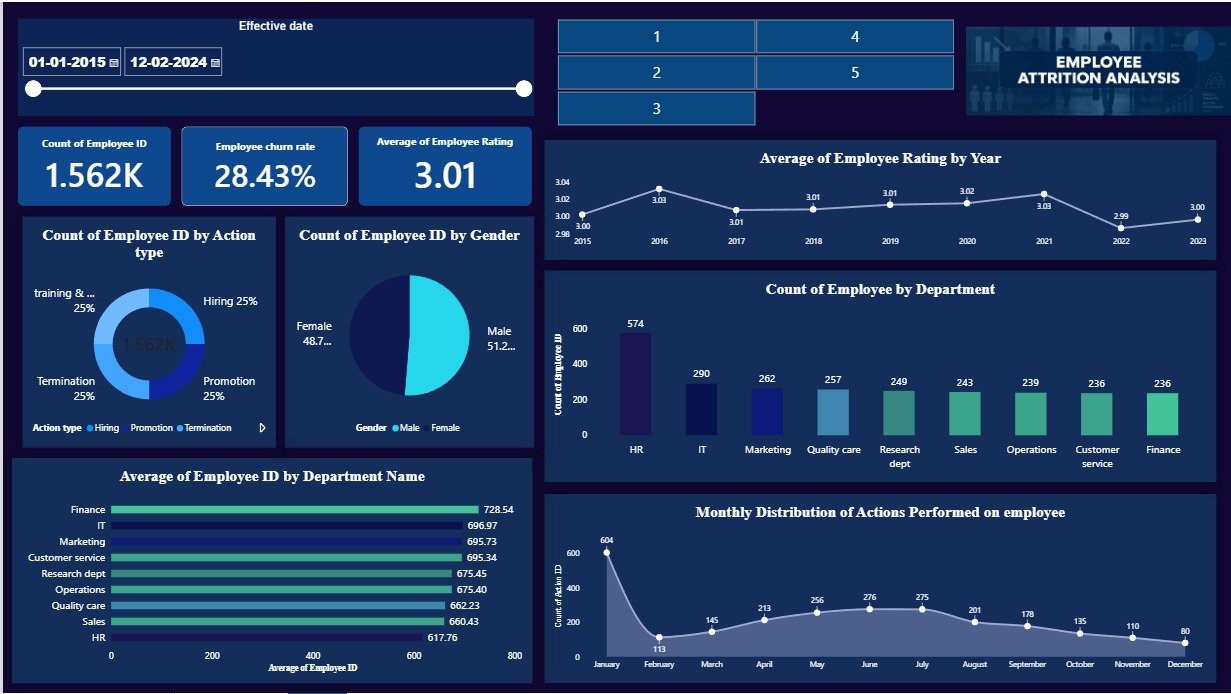

What the dashboard file says about the page in this screenshot:
{"tool":"powerbi","page":{"name":"Page 1","canvas":[1920,1080],"ordinal":0},"visuals":[{"type":"areaChart","title":"Monthly Distribution of Actions Performed on employee","fields":{"Category":["Action table.EffectiveDt.Variation.Date Hierarchy.Month"],"Y":["CountNonNull(Action table.Action ID)"]},"box":[846.4,769,1050.3,295.4],"z":0},{"type":"columnChart","title":"Count of Employee by Department ","fields":{"Category":["Employee table.Department Name"],"Y":["CountNonNull(Action table.Employee ID)"]},"box":[846.4,419.7,1050.3,330.6],"z":1000},{"type":"lineChart","fields":{"Category":["Performance Table.Performnce evaluation date.Variation.Date Hierarchy.Year"],"Y":["Avg(Performance Table.Employee Rating)"]},"box":[846.4,215.7,1050.3,187.6],"z":2000},{"type":"pieChart","fields":{"Category":["Employee table.Gender"],"Y":["CountNonNull(Employee table.Employee ID)"]},"box":[440.8,335.3,389.2,361.1],"z":3000},{"type":"donutChart","fields":{"Category":["Action table.Action type"],"Y":["CountNonNull(Employee table.Employee ID)"]},"box":[30.5,335.3,396.2,361.1],"z":4000},{"type":"barChart","fields":{"Category":["Employee table.Department Name"],"Y":["Avg(Performance Table.Employee ID)"]},"box":[14.1,712.7,813.5,351.7],"z":5000},{"type":"cardVisual","fields":{"Data":["Action table.Employee churn rate"]},"box":[279,194.6,260.2,124.3],"z":6000},{"type":"cardVisual","fields":{"Data":["Avg(Performance Table.Employee Rating)"]},"box":[555.6,194.6,272,124.3],"z":7000},{"type":"cardVisual","fields":{"Data":["CountNonNull(Employee table.Employee ID)"]},"box":[23.4,194.6,239.1,124.3],"z":8000},{"type":"slicer","fields":{"Values":["Performance Table.Employee Rating"]},"box":[846.4,25.8,658.8,168.8],"z":9000},{"type":"slicer","title":"Effective date","fields":{"Values":["Action table.EffectiveDt"]},"box":[23.4,25.8,806.5,152.4],"z":10000},{"type":"image","box":[1505.2,0,415,215.7],"z":10004}]}

Visuals, with their boxes in screenshot pixels (x1, y1, x2, y2), scaled from the page's 1920x1080 canvas onto the 1231x694 screenshot:
"Monthly Distribution of Actions Performed on employee" areaChart: 543,494,1216,684
"Count of Employee by Department " columnChart: 543,270,1216,482
lineChart - Performance Table.Performnce evaluation date.Variation.Date Hierarchy.Year x Avg(Performance Table.Employee Rating): 543,139,1216,259
pieChart - Employee table.Gender x CountNonNull(Employee table.Employee ID): 283,215,532,448
donutChart - Action table.Action type x CountNonNull(Employee table.Employee ID): 20,215,274,448
barChart - Employee table.Department Name x Avg(Performance Table.Employee ID): 9,458,531,684
cardVisual - Action table.Employee churn rate: 179,125,346,205
cardVisual - Avg(Performance Table.Employee Rating): 356,125,531,205
cardVisual - CountNonNull(Employee table.Employee ID): 15,125,168,205
slicer - Performance Table.Employee Rating: 543,17,965,125
"Effective date" slicer: 15,17,532,115
image: 965,0,1230,139
